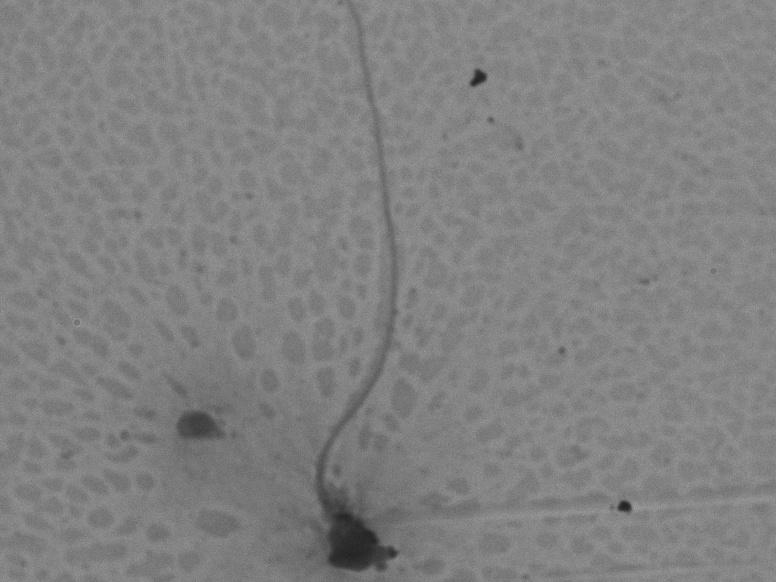Abnormal: (252, 12, 473, 579)
